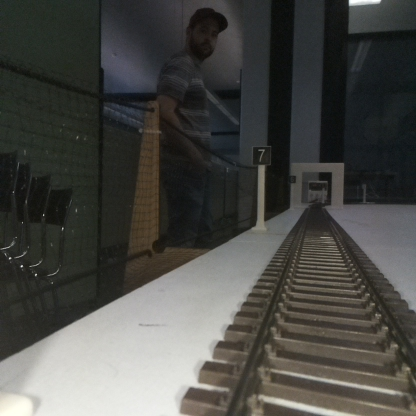black-info-7: (253, 145, 271, 228)
